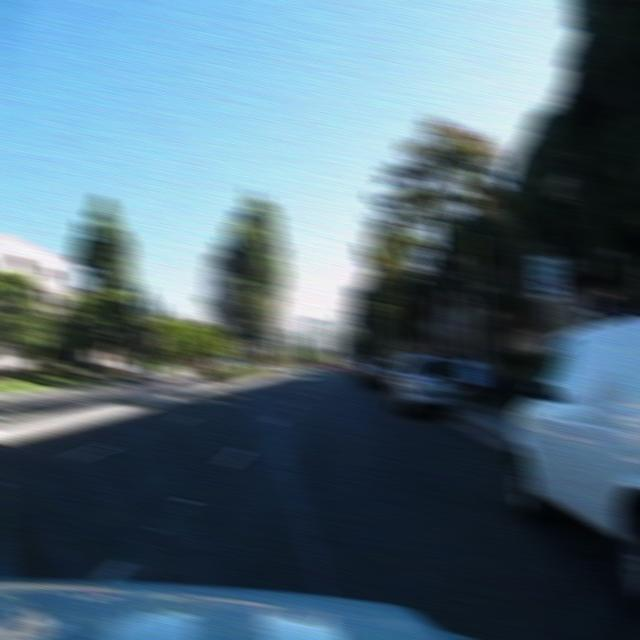speedLimit35: (529, 253, 565, 302)
